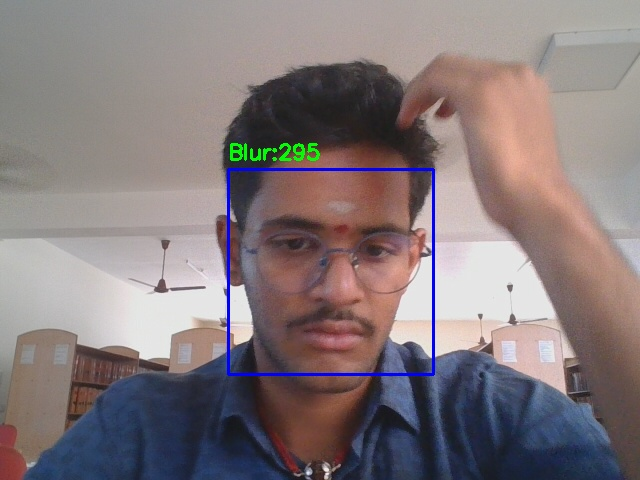real: (228, 169, 433, 374)
